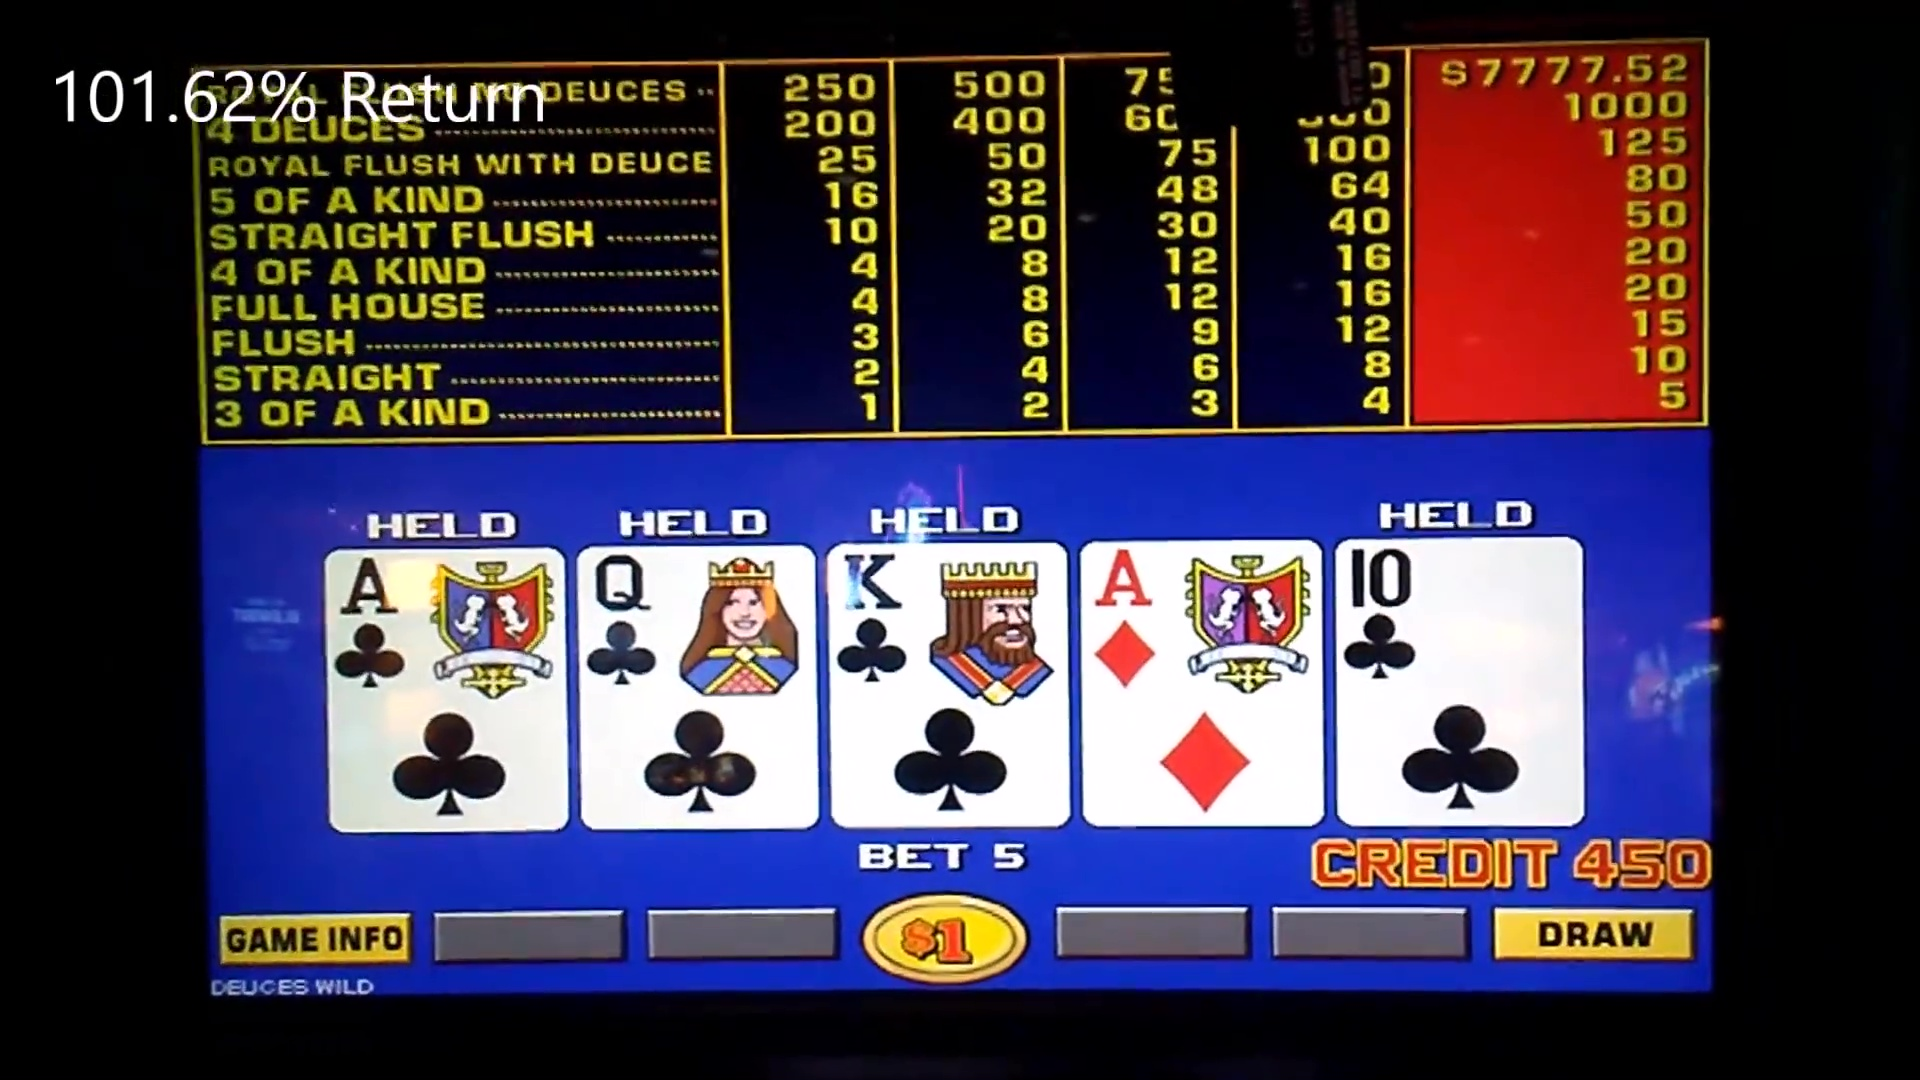CA: (331, 550, 571, 829)
CK: (832, 541, 1064, 831)
CQ: (582, 545, 815, 832)
CT: (1340, 537, 1578, 825)
DA: (1083, 535, 1320, 833)
